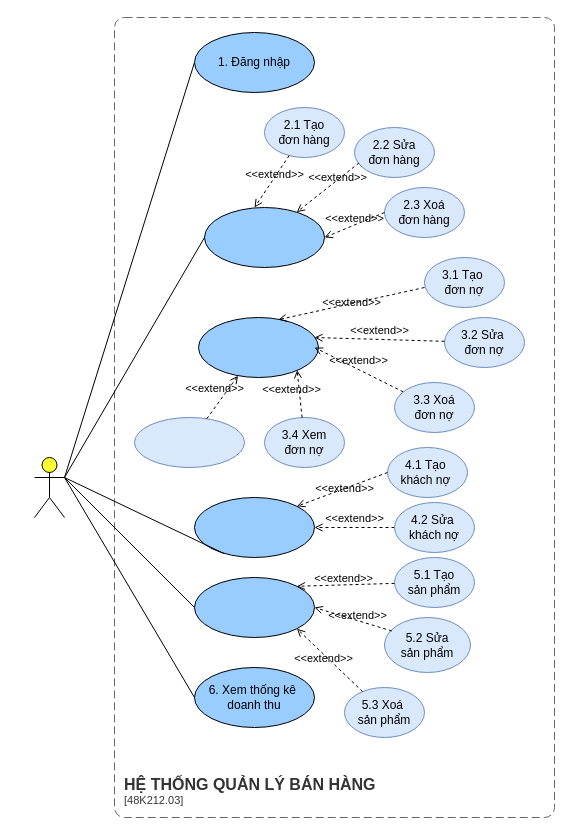
The diagram is 572 pixels wide and 835 high, and some of its shapes have lost their labels. The shapes that lost their labels are listed below. From the top down, each one's centre as x and y in pixels, then its label:
(264,237): 2. Quản lý đơn hàng
(258,347): 3. Quản lý đơn nợ
(189,442): 3.5 Gửi tin nhắn nhắc nợ
(49,487): Chủ tạp hoá
(254,527): 4. Quản lý khách nợ
(254,607): 5. Quản lý hàng hoá
